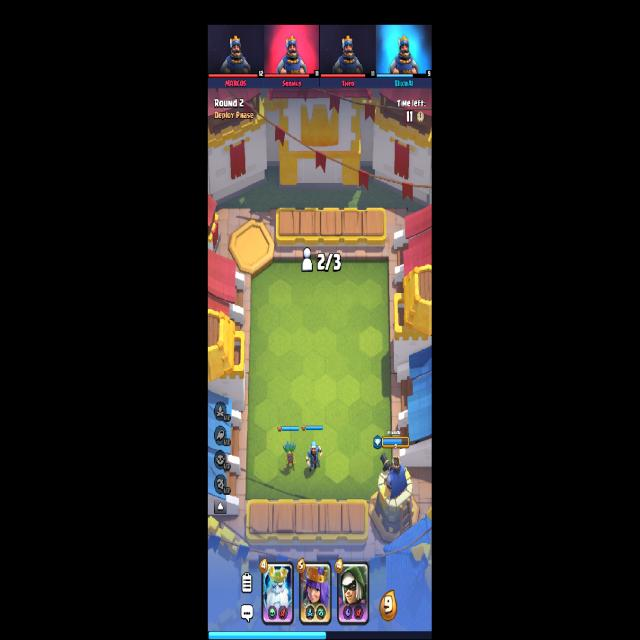card_archer_queen: (299, 561, 332, 625)
card_bandit: (336, 562, 369, 626)
card_royal_ghost: (262, 562, 294, 626)
dart_goblin: (282, 441, 298, 470)
wizard: (306, 441, 322, 471)
